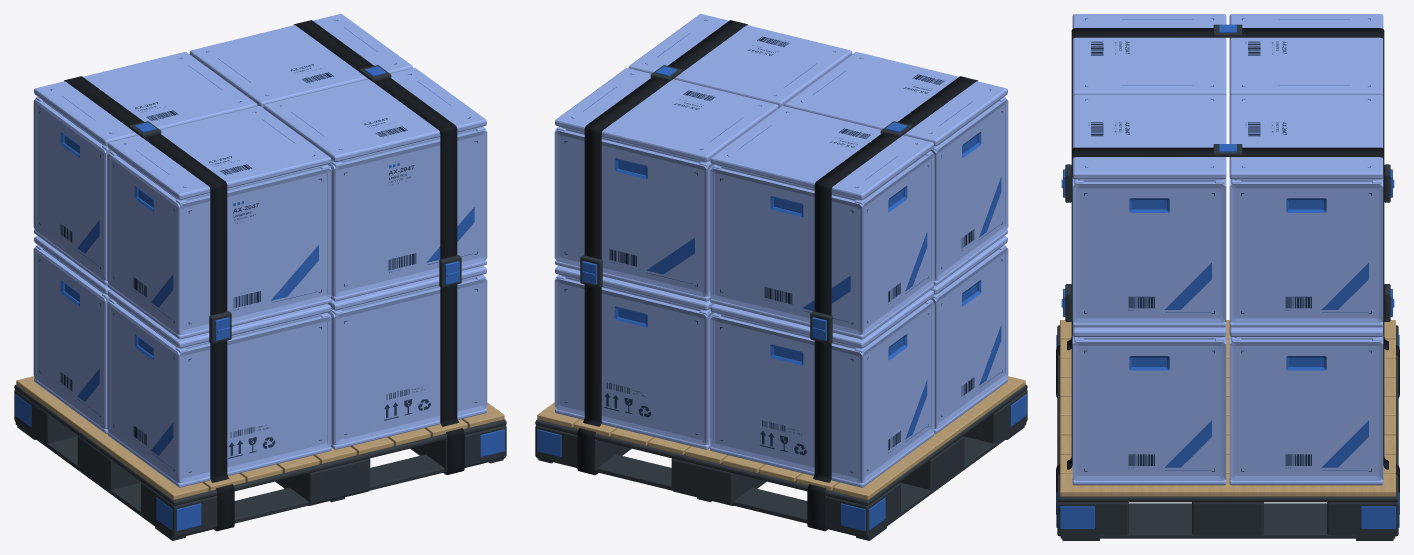
Rendered from cargo_pallet.glb.
3 views of the same model, side by side, from view 1: azimuth 30°, elevation 25°; view 2: azimuth 150°, elevation 25°; view 3: azimuth 270°, elevation 25° (orthographic). The views are drawn at different scales.
Visible parts, largest first — view 1: Export_Box_05, Export_Box_01, Export_Box_06, Export_Pallet, Export_Box_02, Export_Box_07, Export_Box_03, Export_Box_08, Export_Strap_2_Continuous, Export_Strap_1_Continuous, Export_Buckles; view 2: Export_Box_07, Export_Box_03, Export_Box_08, Export_Pallet, Export_Box_04, Export_Box_05, Export_Box_01, Export_Box_06, Export_Strap_2_Continuous, Export_Strap_1_Continuous, Export_Buckles; view 3: Export_Box_06, Export_Box_08, Export_Box_02, Export_Box_04, Export_Pallet, Export_Box_05, Export_Box_07, Export_Strap_2_Continuous, Export_Strap_1_Continuous, Export_Buckles.
Boxes of the visible parts, left/top/right/bottom form: Export_Box_05: left=107, top=106, right=331, bottom=339; Export_Box_01: left=107, top=290, right=331, bottom=487; Export_Box_06: left=263, top=68, right=487, bottom=301; Export_Pallet: left=14, top=376, right=506, bottom=540; Export_Box_02: left=328, top=265, right=487, bottom=449; Export_Box_07: left=33, top=52, right=257, bottom=285; Export_Box_03: left=33, top=236, right=111, bottom=433; Export_Box_08: left=189, top=14, right=412, bottom=107; Export_Strap_2_Continuous: left=294, top=20, right=464, bottom=474; Export_Strap_1_Continuous: left=64, top=76, right=234, bottom=531; Export_Buckles: left=129, top=65, right=461, bottom=343; Export_Box_07: left=710, top=106, right=934, bottom=339; Export_Box_03: left=710, top=290, right=934, bottom=487; Export_Box_08: left=554, top=68, right=778, bottom=301; Export_Pallet: left=535, top=376, right=1027, bottom=540; Export_Box_04: left=554, top=265, right=713, bottom=449; Export_Box_05: left=784, top=52, right=1008, bottom=285; Export_Box_01: left=930, top=236, right=1008, bottom=433; Export_Box_06: left=629, top=14, right=852, bottom=107; Export_Strap_2_Continuous: left=577, top=20, right=747, bottom=474; Export_Strap_1_Continuous: left=807, top=76, right=977, bottom=531; Export_Buckles: left=580, top=65, right=912, bottom=343; Export_Box_06: left=1072, top=94, right=1226, bottom=327; Export_Box_08: left=1229, top=94, right=1383, bottom=327; Export_Box_02: left=1072, top=326, right=1226, bottom=485; Export_Box_04: left=1229, top=326, right=1383, bottom=485; Export_Pallet: left=1056, top=320, right=1399, bottom=540; Export_Box_05: left=1072, top=14, right=1226, bottom=95; Export_Box_07: left=1229, top=14, right=1383, bottom=95; Export_Strap_2_Continuous: left=1056, top=147, right=1399, bottom=514; Export_Strap_1_Continuous: left=1056, top=28, right=1399, bottom=397; Export_Buckles: left=1061, top=24, right=1394, bottom=321.
Bounding box in the file's own units: 1.2 × 1.19 × 1.01.
6 materials, 2 textured.
